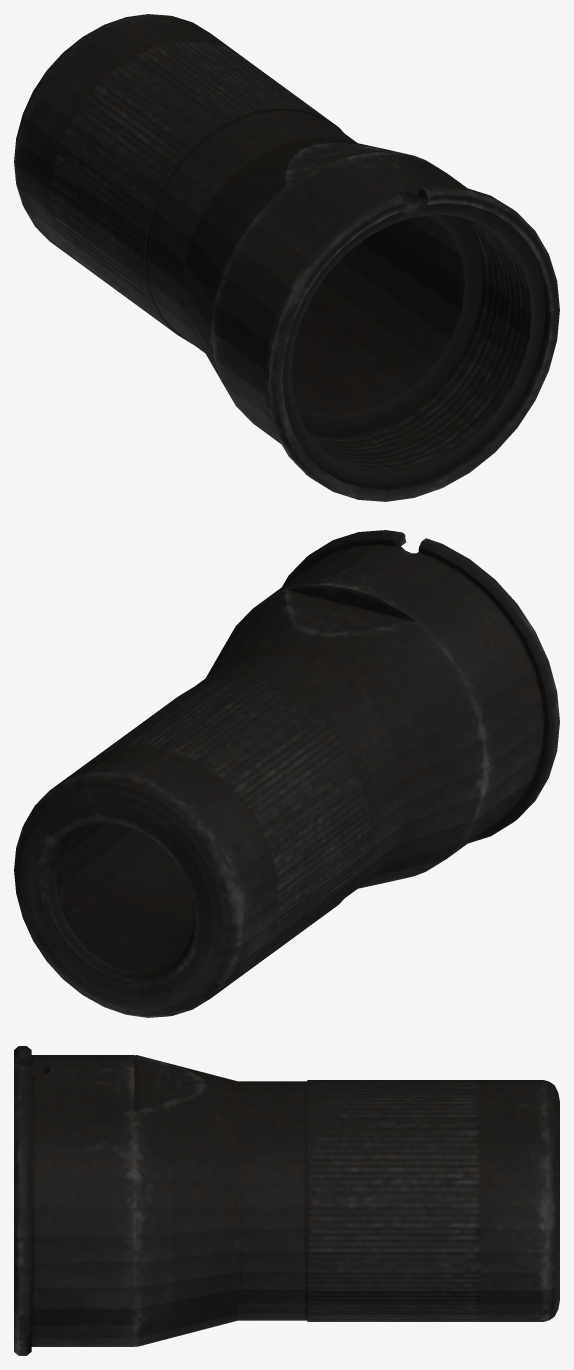
The picture shows the model from 3 angles, top to bottom: view 1: azimuth 30°, elevation 25°; view 2: azimuth 150°, elevation 25°; view 3: azimuth 270°, elevation 25°; orthographic projection. The views are drawn at different scales.
Parts seen in each view (by area): view 1: TW_560e620e4bdc2d724b8b456b_PZ_Import; view 2: TW_560e620e4bdc2d724b8b456b_PZ_Import; view 3: TW_560e620e4bdc2d724b8b456b_PZ_Import.
Boxes of the visible parts, bbox=[...] form: TW_560e620e4bdc2d724b8b456b_PZ_Import: bbox=[14, 14, 559, 501]; TW_560e620e4bdc2d724b8b456b_PZ_Import: bbox=[14, 530, 559, 1017]; TW_560e620e4bdc2d724b8b456b_PZ_Import: bbox=[14, 1046, 559, 1355].
Bounding box in the file's own units: 0.0217 × 0.0382 × 0.0216.
Materials: 1 (1 with a texture image).
